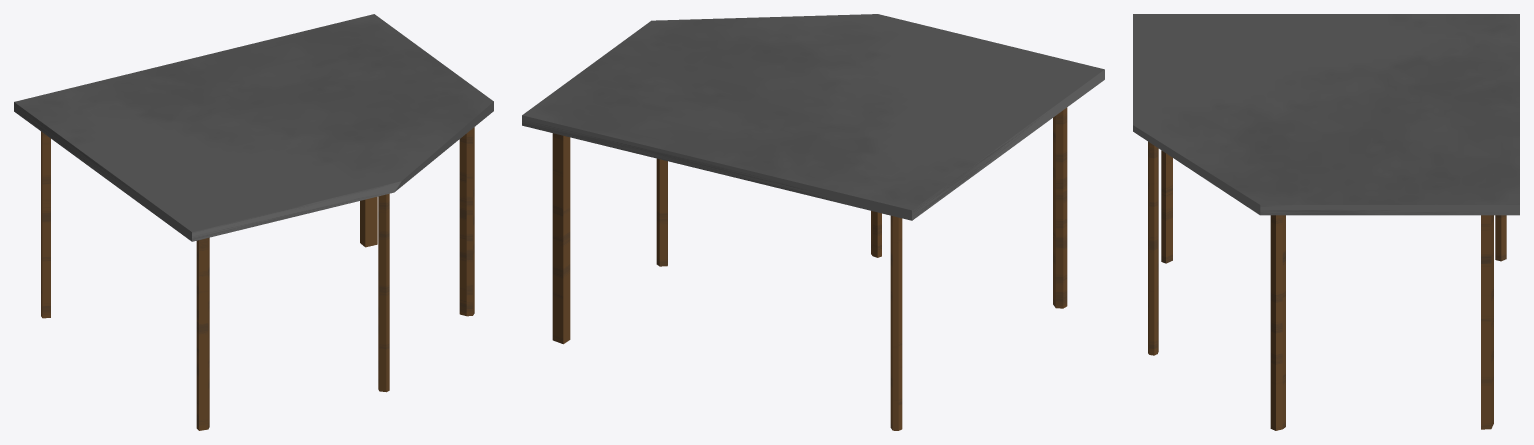
File: prob 3.fbx
The picture shows the model from 3 angles, left to right: view 1: azimuth 30°, elevation 25°; view 2: azimuth 150°, elevation 25°; view 3: azimuth 270°, elevation 25°; orthographic projection. The views are drawn at different scales.
Parts seen in each view (by area): view 1: Cube; view 2: Cube; view 3: Cube.
Boxes of the visible parts, <box> form: Cube: <box>14,14,493,430</box>; Cube: <box>522,14,1104,430</box>; Cube: <box>1133,14,1519,430</box>.
Bounding box in the file's own units: 1180 × 669 × 1010.
1 material, 1 textured.
